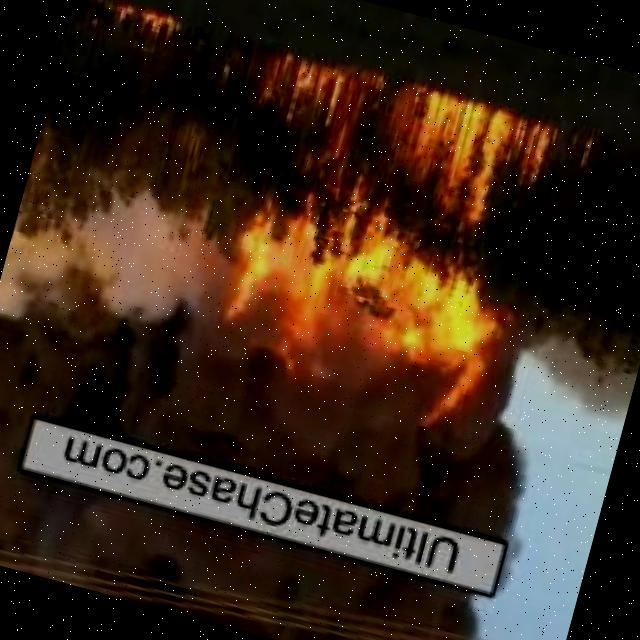fire: (193, 47, 558, 417), (98, 0, 177, 45)
